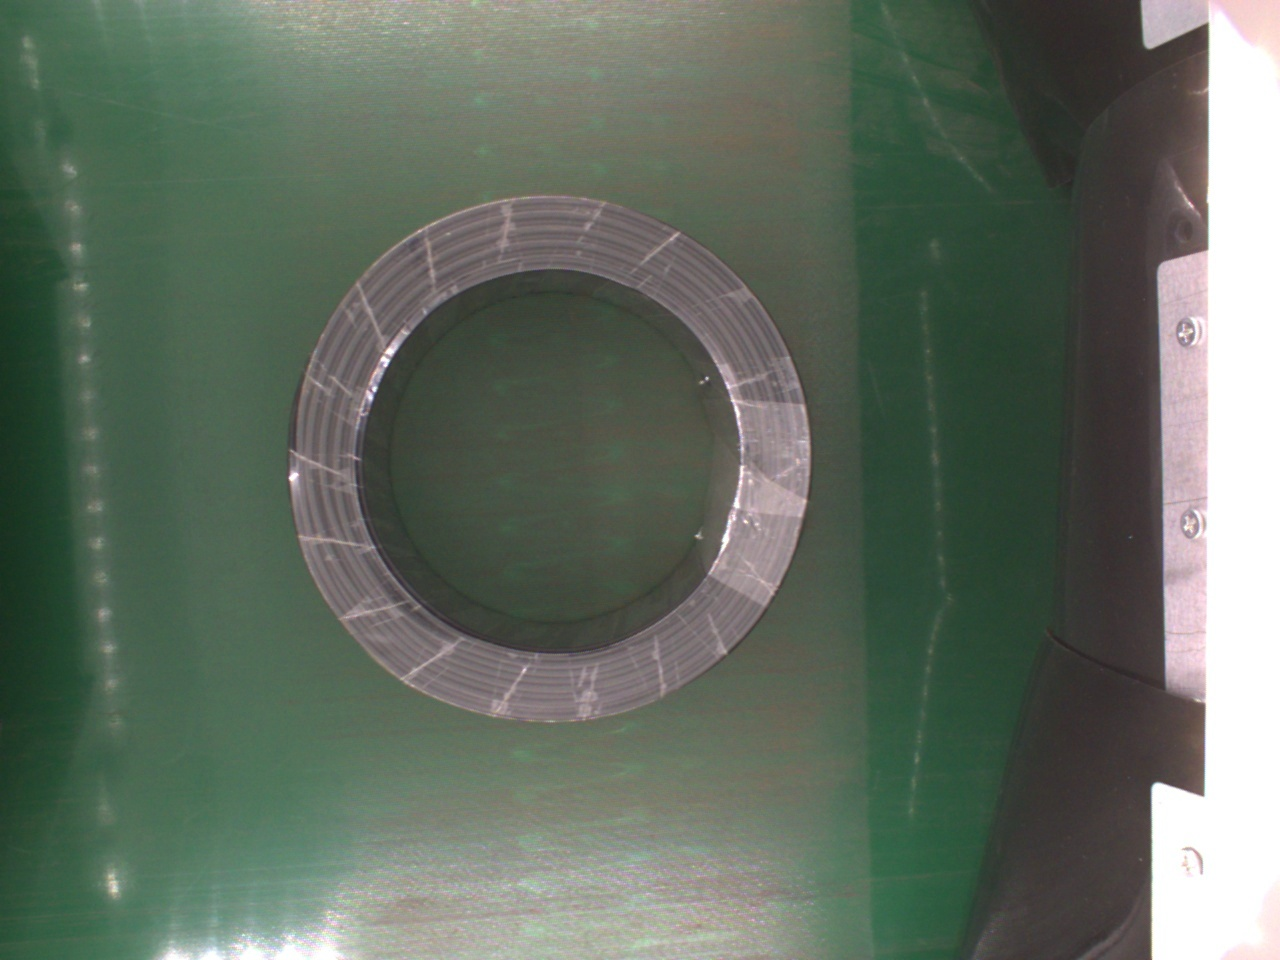black: (283, 193, 812, 729)
